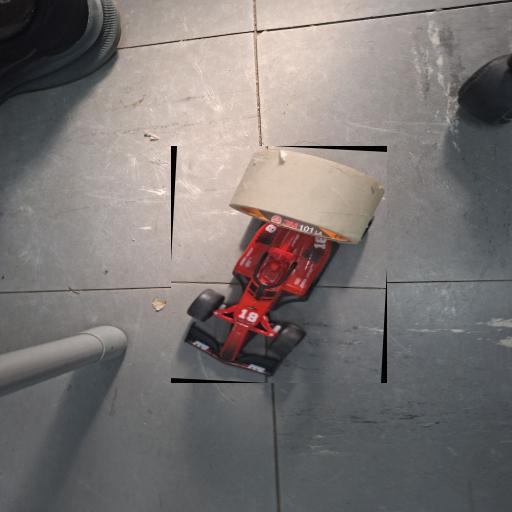carro: (171, 146, 387, 383)
